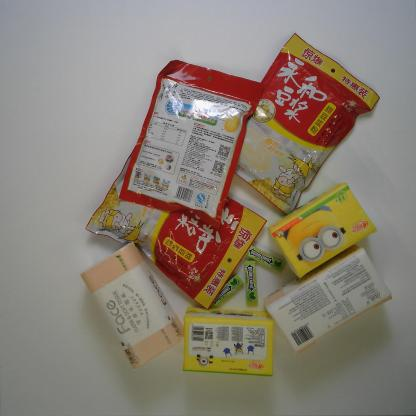Gum: (205, 272, 246, 309), (244, 243, 286, 274), (243, 258, 260, 306)
Instant Drink: (83, 134, 269, 310), (222, 30, 385, 218), (116, 58, 266, 228)
Tissue: (263, 238, 395, 357), (80, 240, 187, 371), (267, 183, 380, 282), (181, 305, 276, 379)
